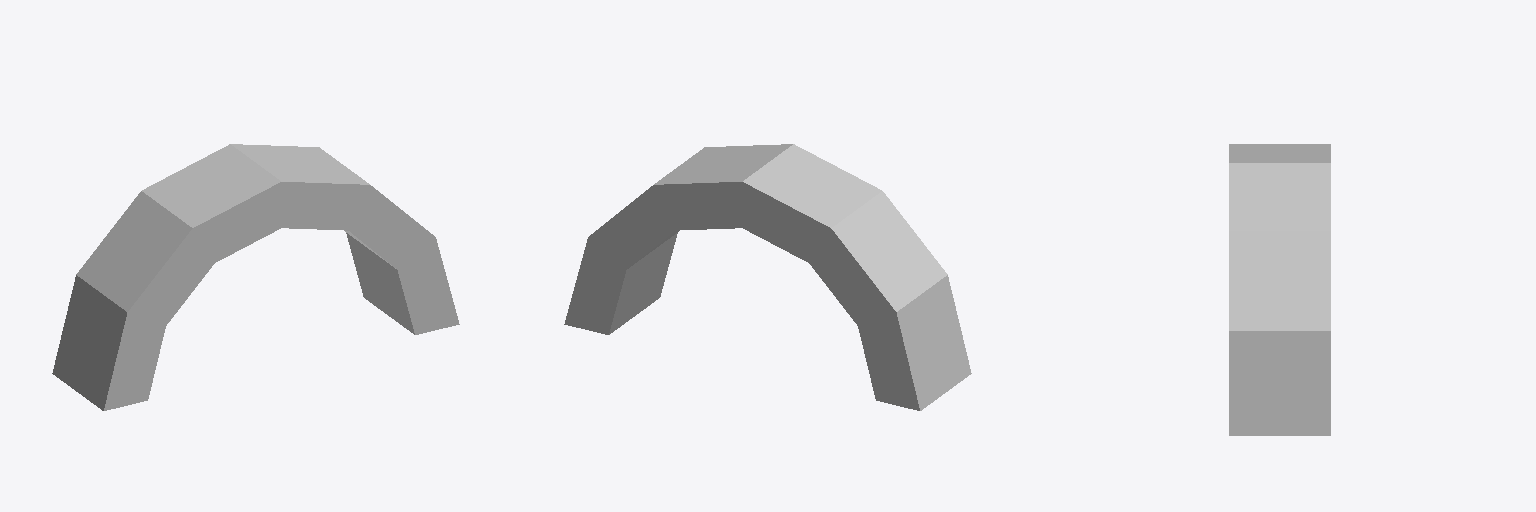
File: Arch (2).obj
3 views of the same model, side by side, from view 1: azimuth 30°, elevation 25°; view 2: azimuth 150°, elevation 25°; view 3: azimuth 270°, elevation 25° (orthographic).
Parts seen in each view (by area): view 1: Arch (2); view 2: Arch (2); view 3: Arch (2).
Part boxes in pixels (left/top/right/bottom): Arch (2): left=52, top=144, right=459, bottom=410; Arch (2): left=564, top=144, right=971, bottom=410; Arch (2): left=1229, top=144, right=1330, bottom=435.
Bounding box in the file's own units: 4 × 2 × 1.